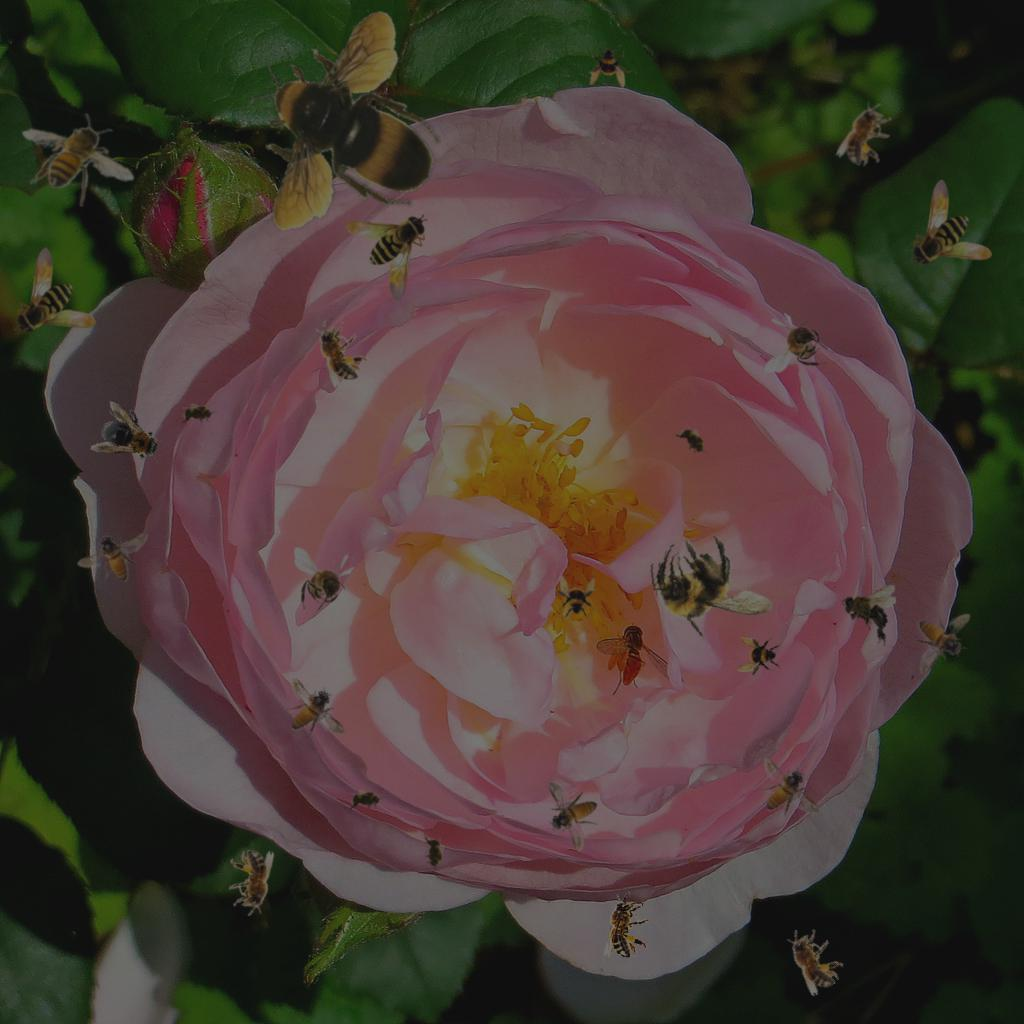Bee: (250, 10, 441, 230), (645, 524, 778, 651), (20, 110, 137, 210), (910, 179, 992, 267), (14, 247, 96, 335), (346, 214, 428, 302), (898, 598, 986, 677), (748, 746, 822, 831), (89, 400, 173, 474), (775, 918, 851, 999), (275, 666, 347, 751), (303, 310, 375, 391), (834, 94, 900, 173), (836, 577, 899, 647), (764, 312, 834, 373), (294, 547, 355, 617), (548, 781, 598, 852), (77, 532, 148, 582), (604, 892, 649, 958), (229, 850, 274, 916), (671, 418, 715, 464), (553, 575, 597, 619), (588, 44, 632, 88), (737, 635, 781, 679), (346, 789, 386, 811), (423, 833, 445, 873), (178, 403, 218, 425)
